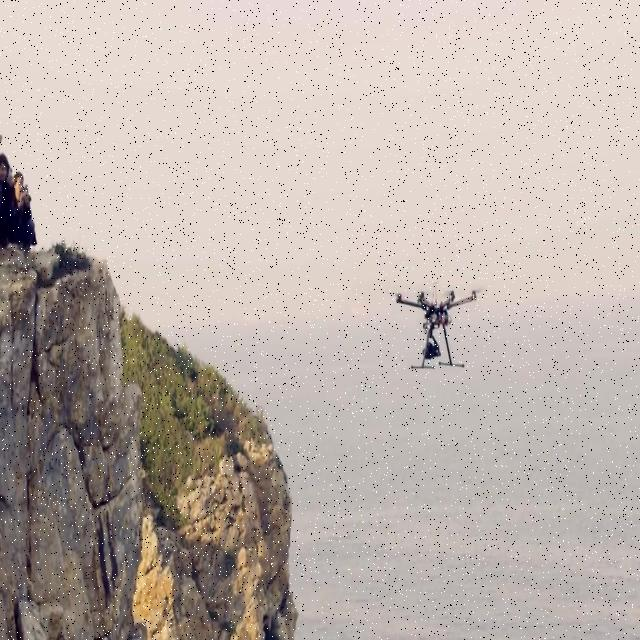UAV: (392, 282, 480, 370)
